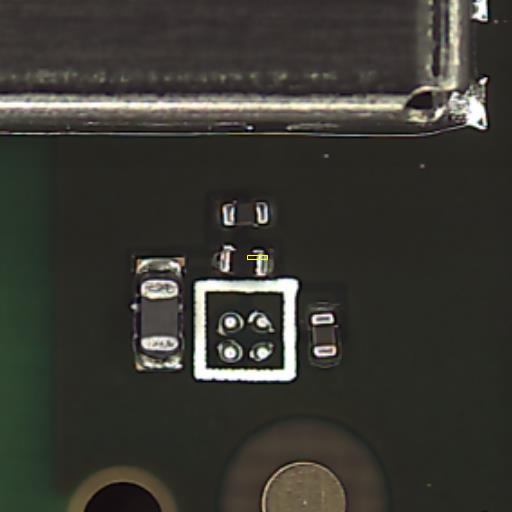bottom_layer: (132, 254, 186, 371), (308, 302, 342, 368), (215, 200, 276, 228), (211, 252, 274, 275)
top_layer: (139, 279, 179, 351), (309, 313, 337, 356), (220, 251, 267, 275), (222, 202, 268, 224)
